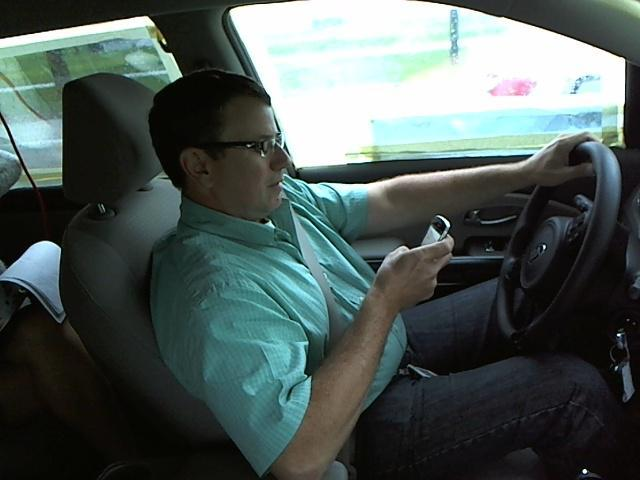PhoneUse: (421, 209, 453, 271)
